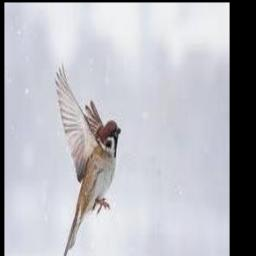Sparrow: (54, 63, 121, 256)
